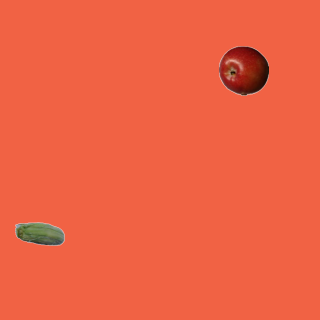Apple Braeburn: (218, 45, 268, 95)
Corn Husk: (14, 210, 64, 260)
